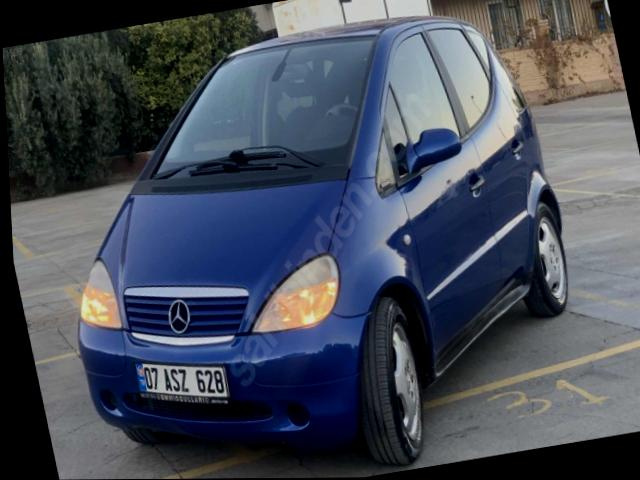plaka: (136, 363, 229, 404)
